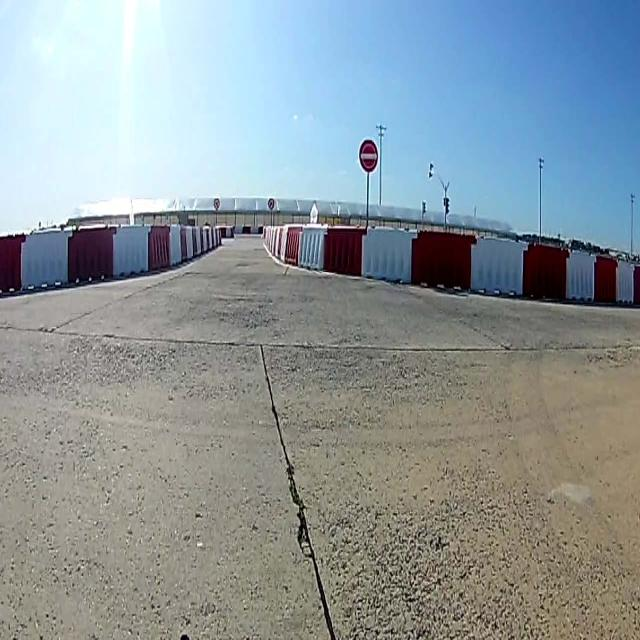girisyok: (360, 142, 378, 170)
